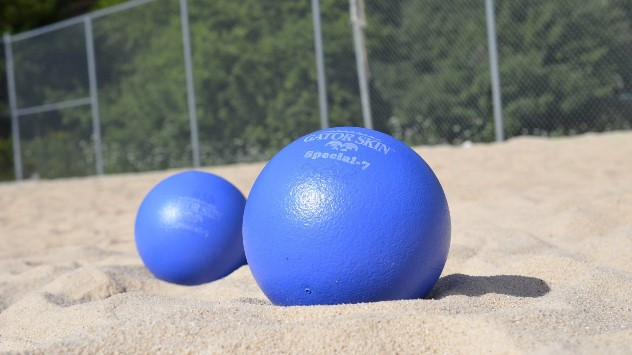blue ball: (240, 126, 451, 308), (133, 170, 246, 286)
